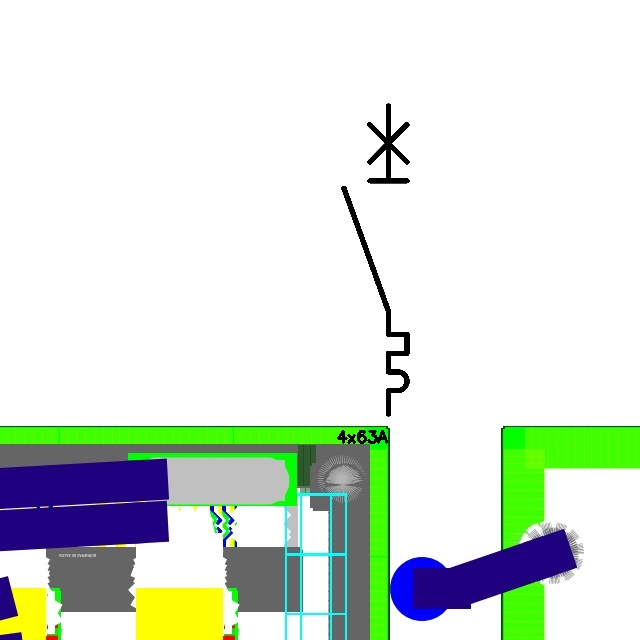interruptor_termomagnetico: (336, 98, 415, 422)
